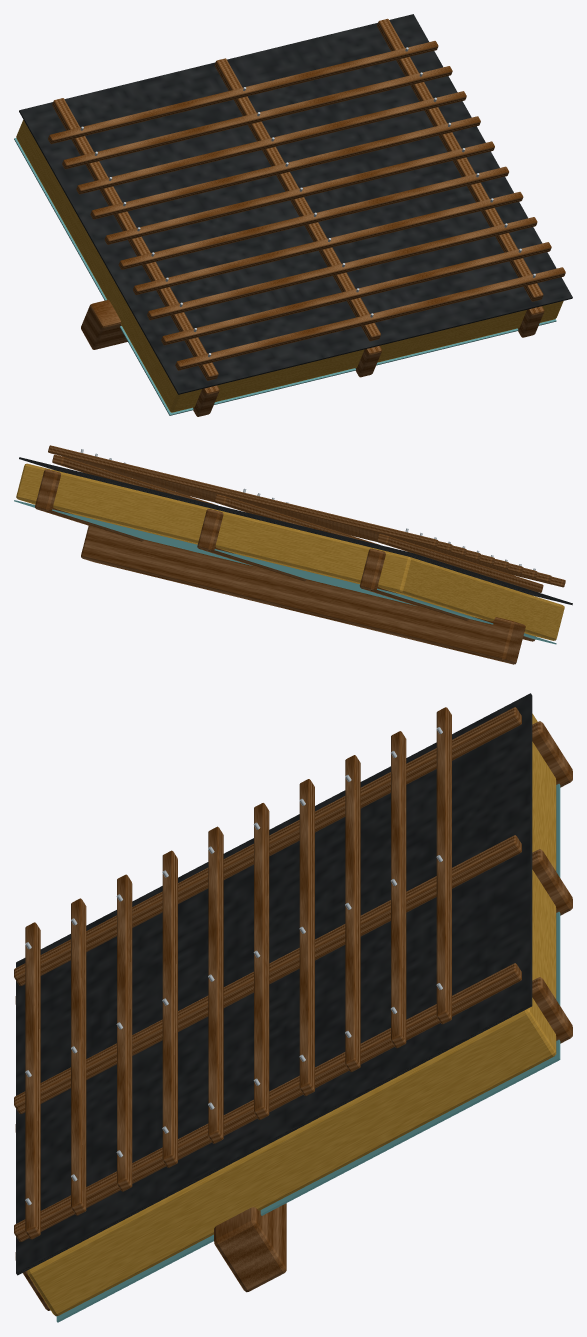
File: modell.glb
3 renders of one model, top to bottom at view 1: azimuth 30°, elevation 25°; view 2: azimuth 150°, elevation 25°; view 3: azimuth 270°, elevation 25°, orthographic. The views are drawn at different scales.
Visible parts, largest first — view 1: g02-zusatzebene_zusatzebene, g02-lattung_lattung, g02-daemmung_daemmung, g02-luftdichtheit_luftdichtheit, g02-sparren_tragwerk, g02-pfette_tragwerk; view 2: g02-daemmung_daemmung, g02-pfette_tragwerk, g02-lattung_lattung, g02-sparren_tragwerk, g02-zusatzebene_zusatzebene, g02-luftdichtheit_luftdichtheit; view 3: g02-zusatzebene_zusatzebene, g02-lattung_lattung, g02-daemmung_daemmung, g02-pfette_tragwerk, g02-luftdichtheit_luftdichtheit, g02-sparren_tragwerk, g02-befestigung_lattung.
Part boxes in pixels (x1,y1,x2,y2): g02-zusatzebene_zusatzebene: (19,14,572,394); g02-lattung_lattung: (48,18,565,380); g02-daemmung_daemmung: (16,120,563,412); g02-luftdichtheit_luftdichtheit: (14,138,556,415); g02-sparren_tragwerk: (193,306,544,416); g02-pfette_tragwerk: (81,299,127,349); g02-daemmung_daemmung: (16,463,564,640); g02-pfette_tragwerk: (81,526,525,664); g02-lattung_lattung: (48,445,565,592); g02-sparren_tragwerk: (35,469,535,641); g02-zusatzebene_zusatzebene: (19,457,572,605); g02-luftdichtheit_luftdichtheit: (14,500,556,644); g02-zusatzebene_zusatzebene: (16,693,532,1275); g02-lattung_lattung: (14,707,521,1242); g02-daemmung_daemmung: (27,713,556,1316); g02-pfette_tragwerk: (214,1203,286,1292); g02-luftdichtheit_luftdichtheit: (56,783,560,1322); g02-sparren_tragwerk: (15,721,572,1310); g02-befestigung_lattung: (25,727,442,1205).
Bounding box in the file's own units: 2.25 × 1.07 × 1.59.
Materials: 5 (3 with a texture image).
